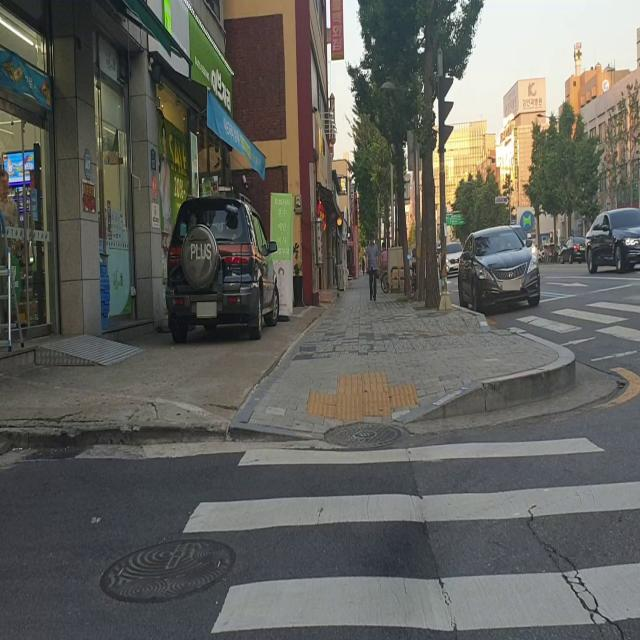횡단보도: (181, 434, 640, 640), (509, 291, 640, 364)
